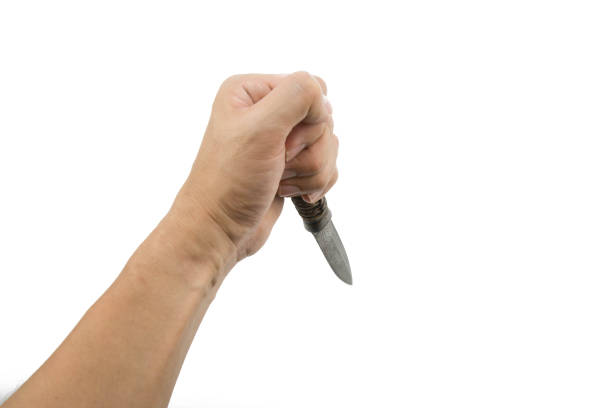knife: (291, 194, 354, 287)
